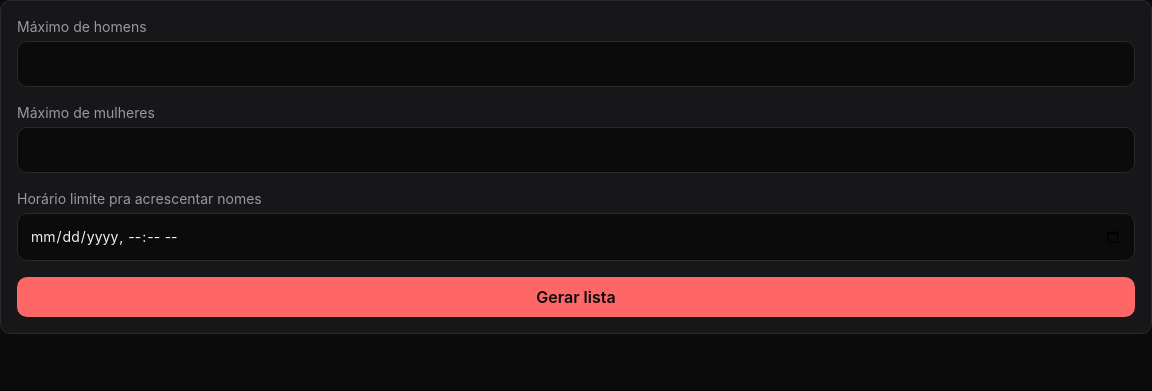
Test case: GuestListForm › shows an error and does not display a link when creation fails
The width and height of the screenshot is (1152, 391).
Type "10" into the number field labelled "Máximo de homens".
click(576, 64); type("10")  # box 17,41 -> 1135,87
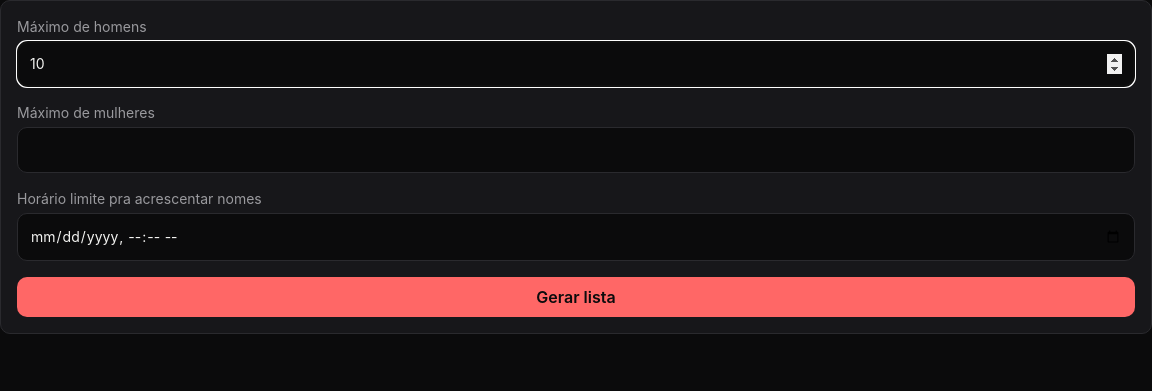
Type "10" into the number field labelled "Máximo de mulheres".
click(576, 150); type("10")  # box 17,127 -> 1135,173
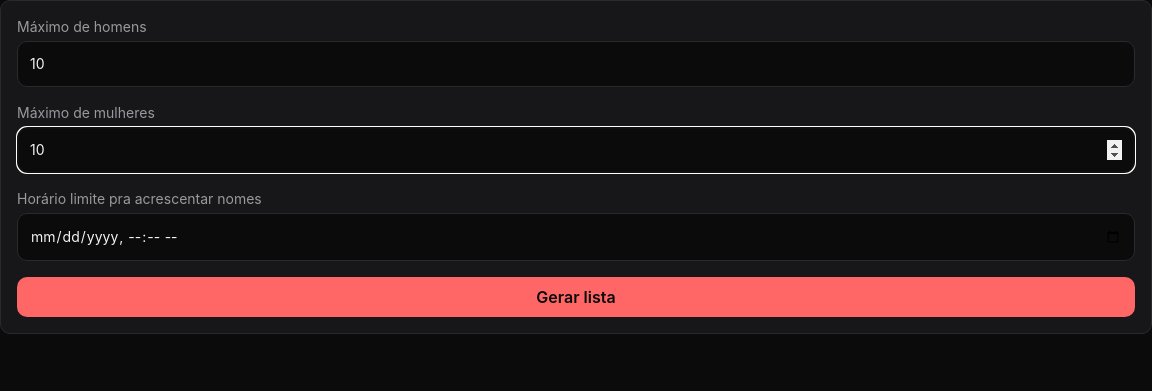
Type "2099-01-01T20:00" into the field labelled "Horário limite pra acrescentar nomes".
click(576, 237); type("2099-01-01T20:00")  # box 17,213 -> 1135,261
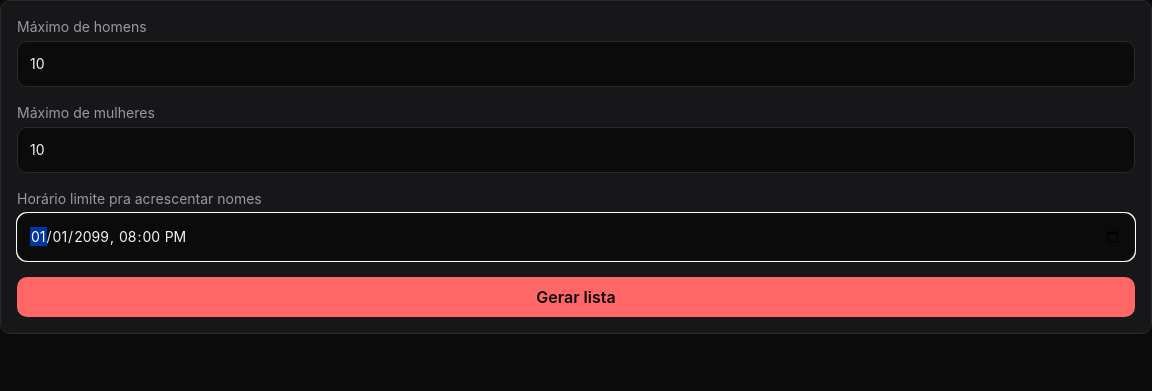
Click the button "Gerar lista".
click(576, 297)  # box 17,277 -> 1135,317
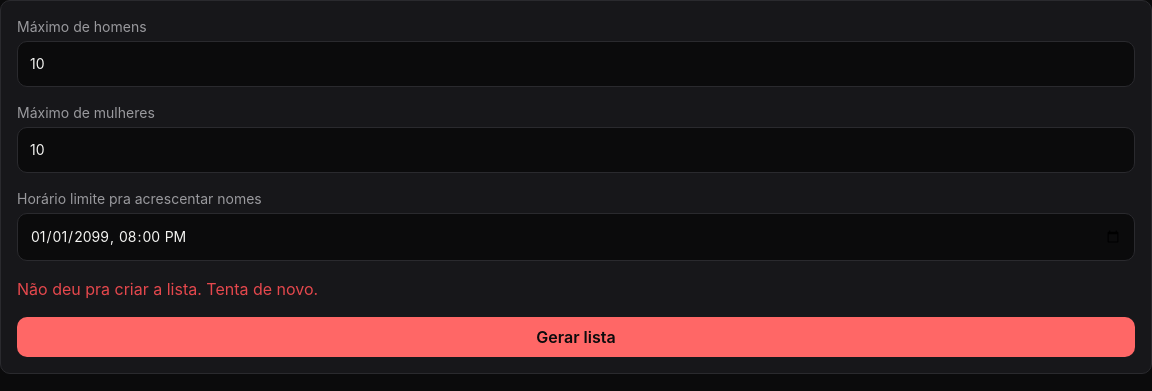
Check: the text "Não deu pra criar a lista. Tenta de novo." is shown, box 17,279 -> 318,299
